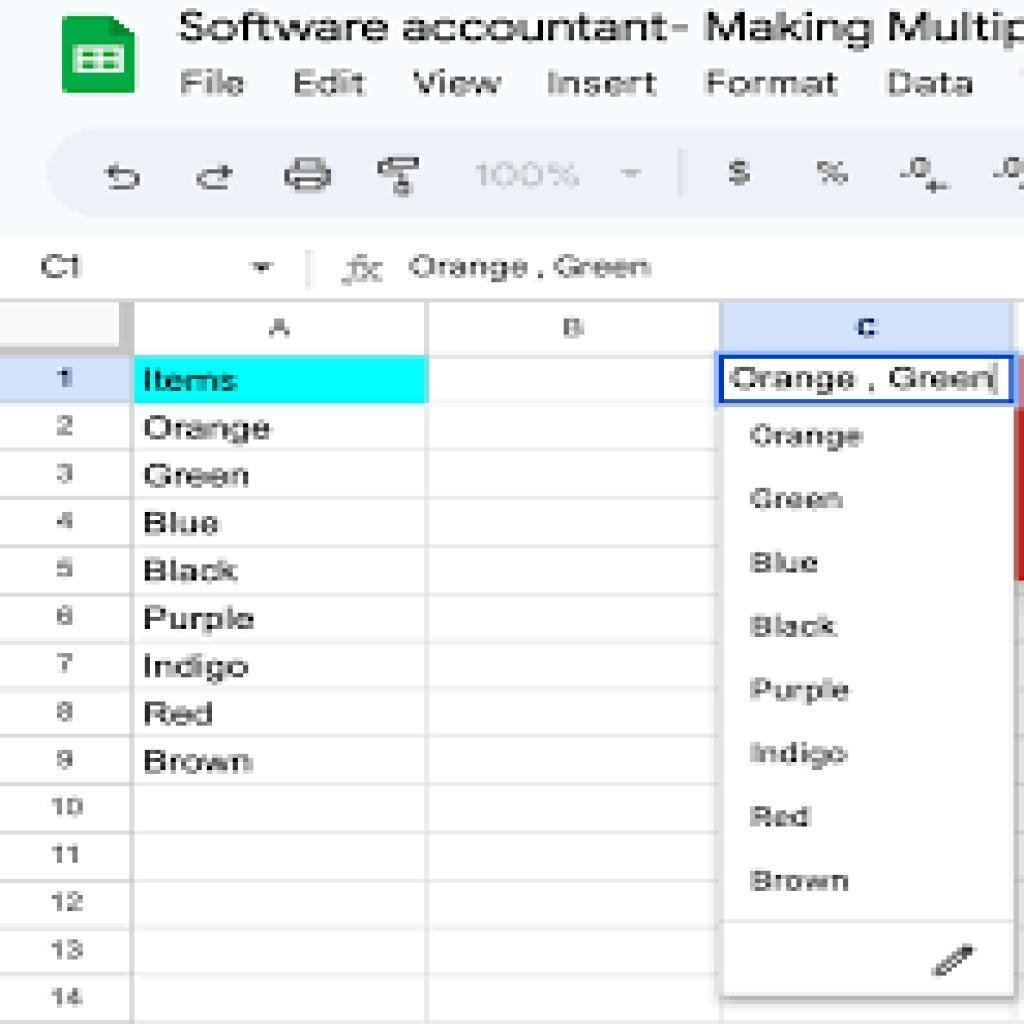icon: (900, 149, 953, 201), (280, 155, 338, 199), (376, 153, 423, 200), (195, 156, 234, 197), (102, 160, 145, 196), (816, 153, 852, 193), (726, 152, 755, 195)
table: (1, 298, 1015, 1024)
